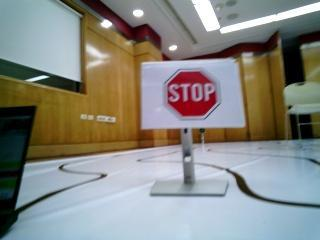stop: (142, 66, 229, 124)
